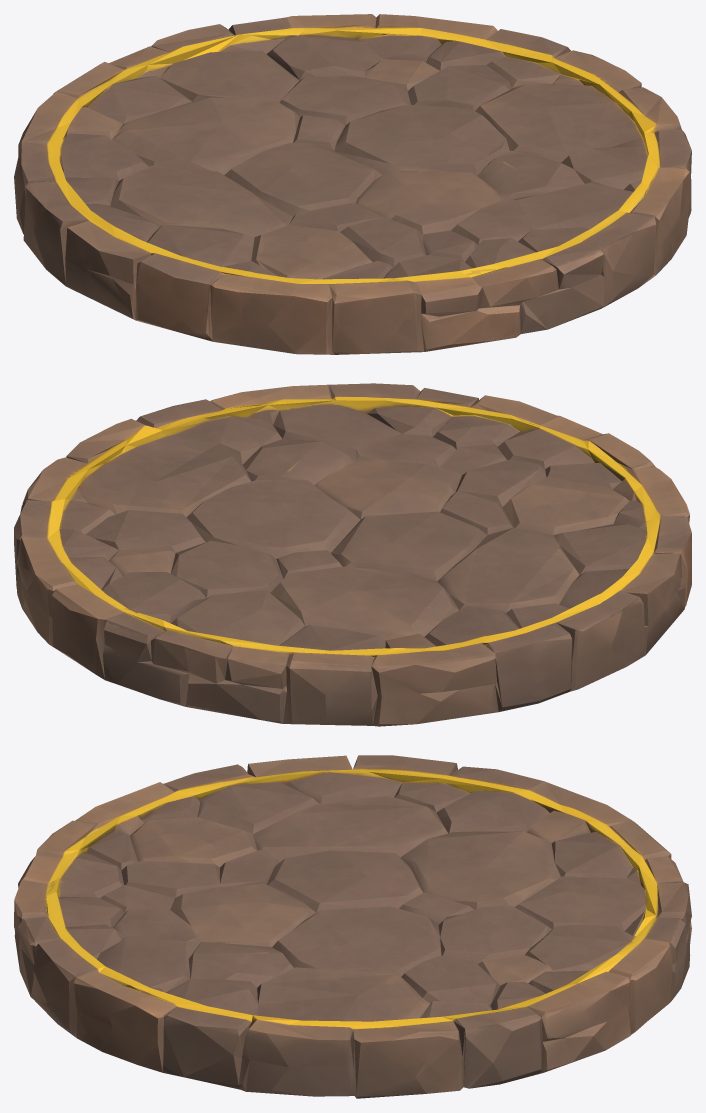
Rendered from TWN_PRP_dais_A.glb.
3 views of the same model, one above another, from view 1: azimuth 30°, elevation 25°; view 2: azimuth 150°, elevation 25°; view 3: azimuth 270°, elevation 25° (orthographic).
Visible parts, largest first — view 1: Mesh_0; view 2: Mesh_0; view 3: Mesh_0.
Boxes of the visible parts, box(x1,y1,x2,y2) form: Mesh_0: box(14, 14, 691, 354); Mesh_0: box(14, 383, 691, 726); Mesh_0: box(14, 755, 691, 1098).
Bounding box in the file's own units: 1.89 × 0.1968 × 1.9.
Materials: 1 (1 with a texture image).
